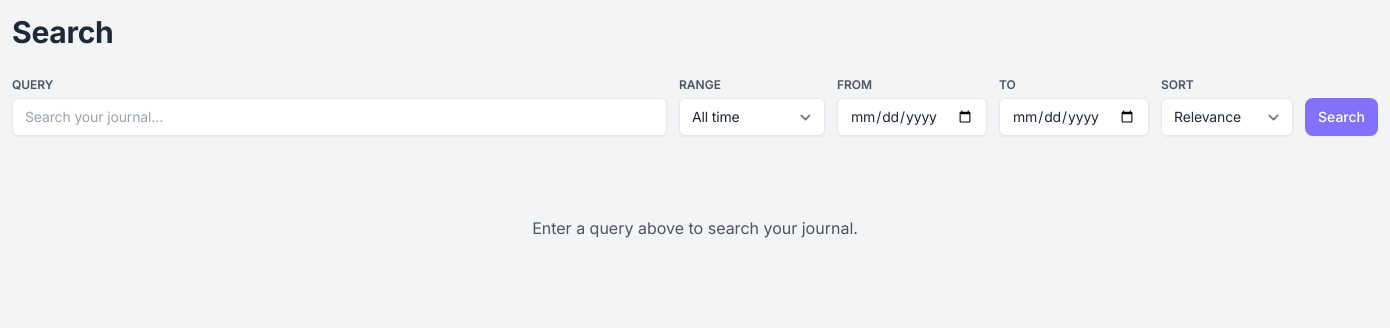
Test: SearchView › renders "Matched by meaning" when only dense contributed
This screenshot has width=1390, height=328.
Step 1. Type "travel" into the search field with test id "search-query-input" → (340, 117), box [12, 98, 667, 136]
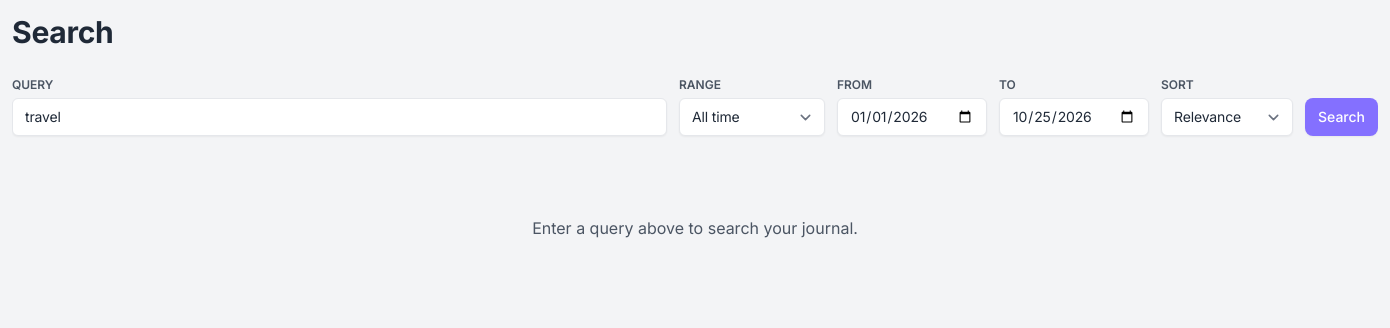
Step 2. Submit the form with test id "search-form", box [12, 76, 1378, 136]
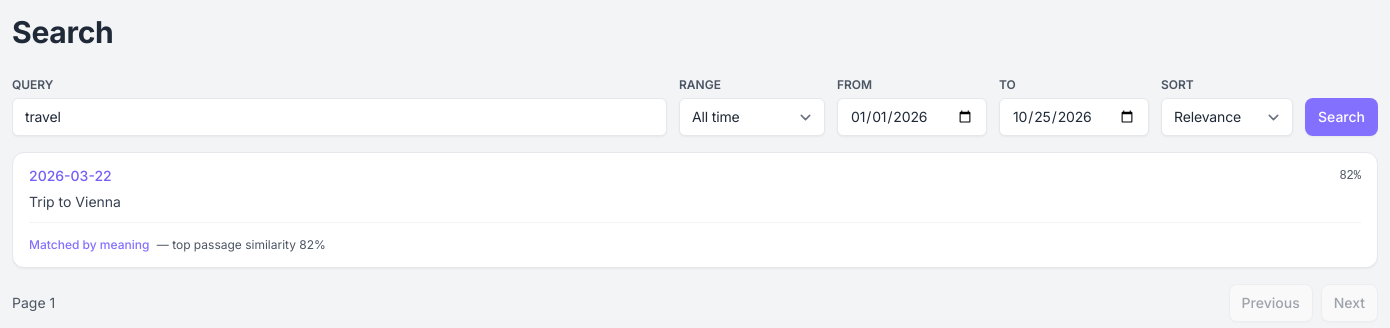
Result: the element with test id "match-explanation" is shown at [29, 222, 1361, 255]
Result: the element with test id "match-explanation" shows "Matched by meaning" at [29, 237, 149, 252]
Result: the element with test id "match-explanation" shows "82%" at [153, 237, 326, 252]
